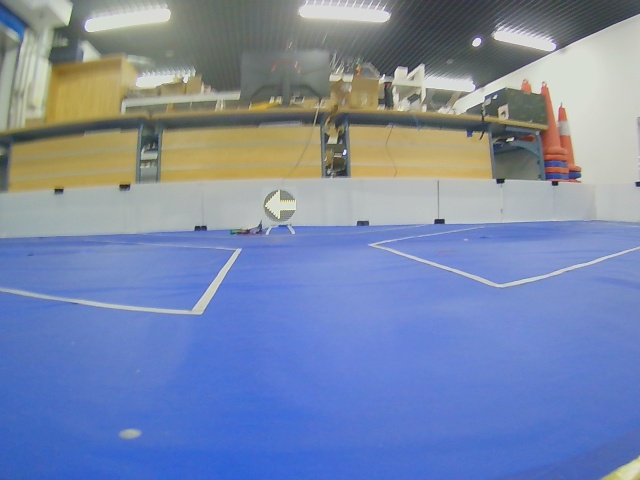left_yellow: (264, 190, 296, 221)
